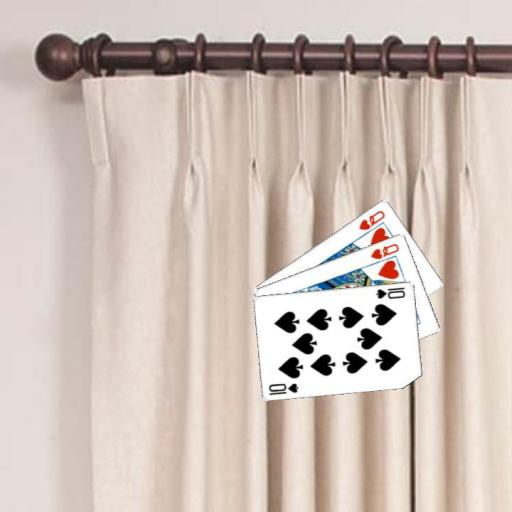10S: (373, 284, 407, 300), (266, 380, 300, 396)
QH: (355, 207, 387, 231), (368, 240, 400, 260)
